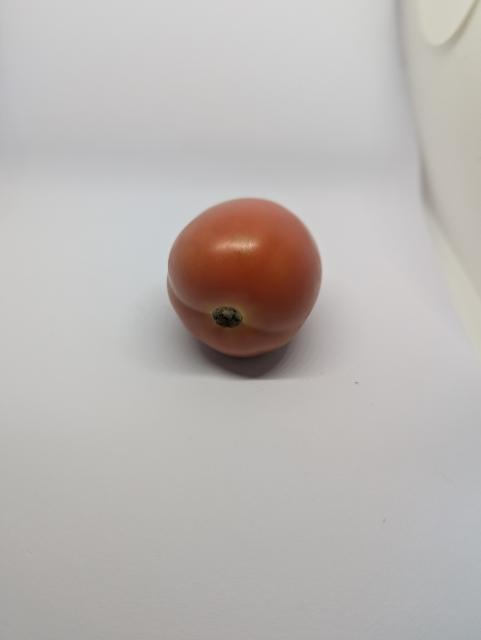red: (164, 194, 328, 369)
